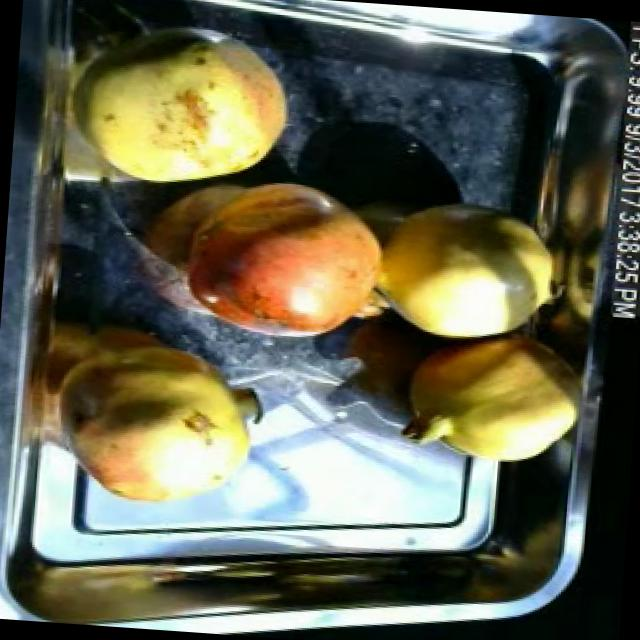fruit: (34, 325, 278, 523), (157, 167, 399, 361), (91, 20, 308, 194), (366, 190, 572, 355), (384, 319, 592, 476)
